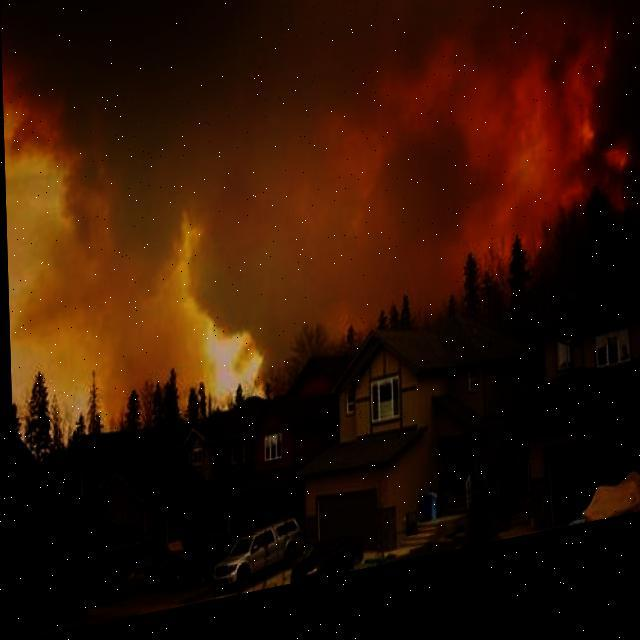Fire: (416, 13, 639, 307), (13, 196, 121, 457), (186, 314, 269, 420)
